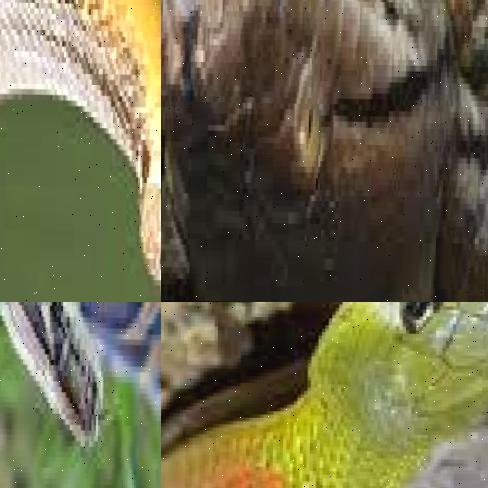snake: (161, 0, 488, 302), (161, 302, 488, 488), (0, 0, 161, 302), (0, 302, 161, 488)
